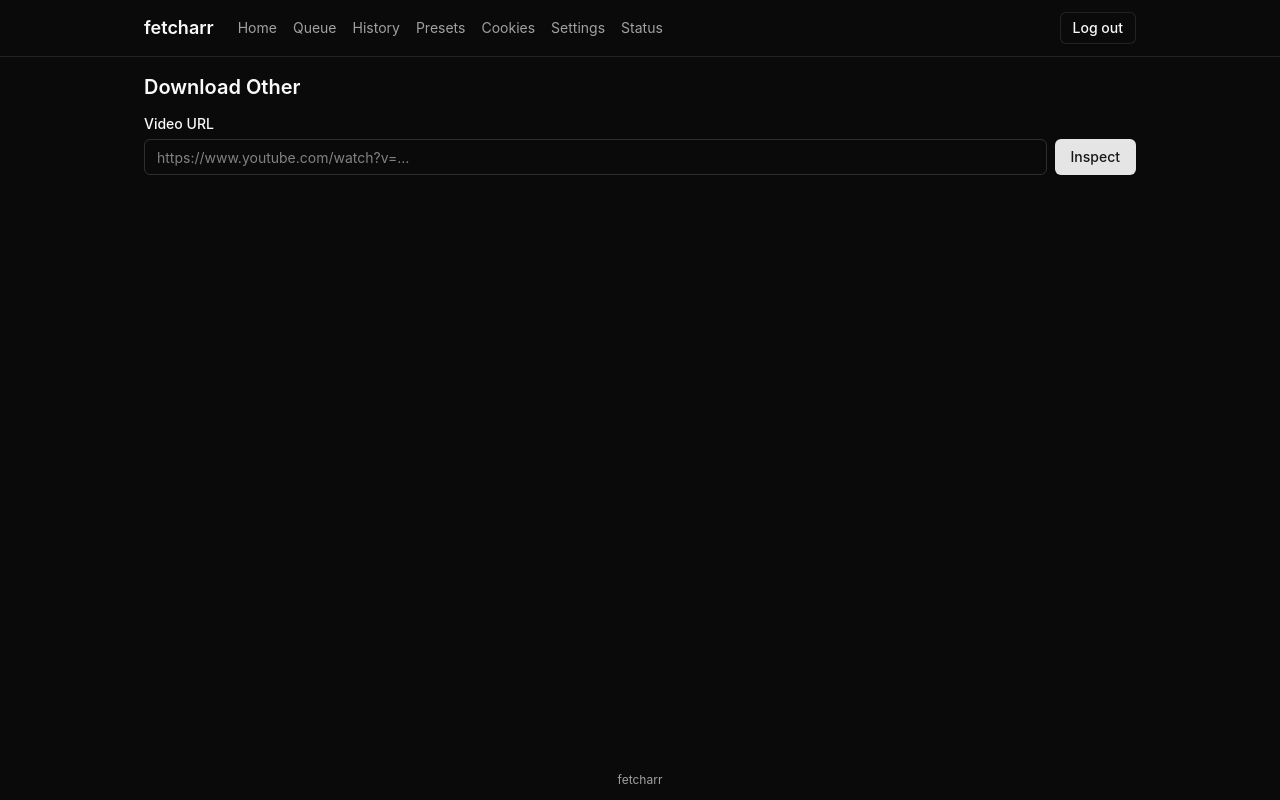
Test: Other wizard › shows a loading state while inspecting
In the field labelled "Video URL": (595, 157) [144,139,1046,175], type "https://www.youtube.com/watch?v=aqz-KE-bpKQ"
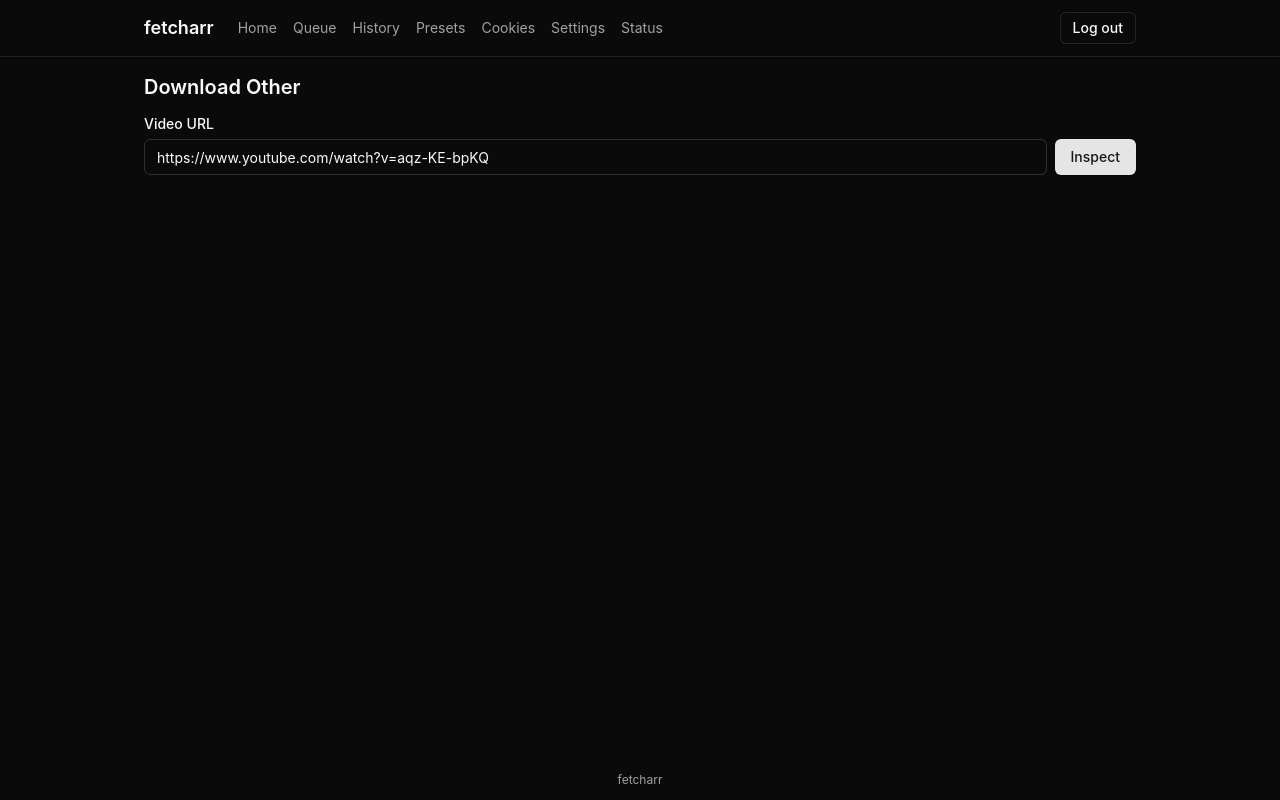
Click the button "Inspect": (1095, 157) [1054,139,1136,175]
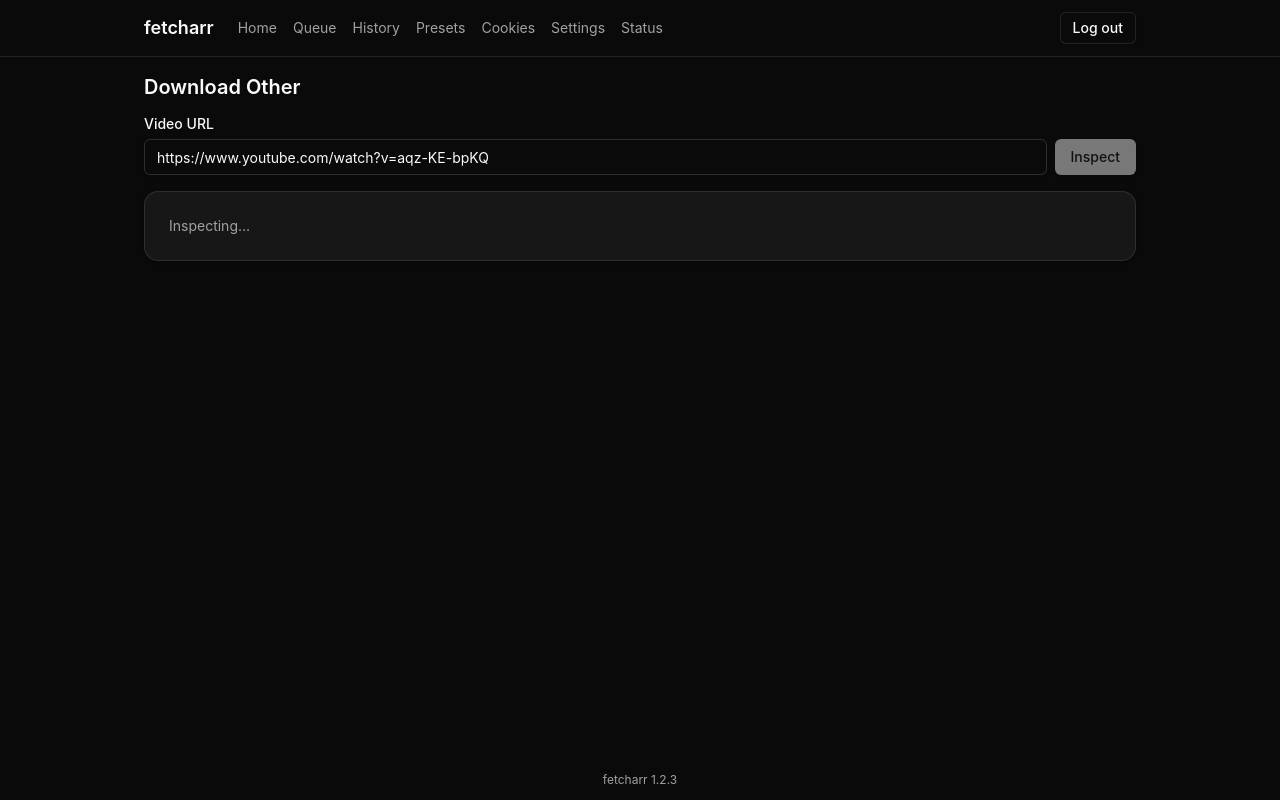
Check: the message reads "Inspecting…", box [169,217,250,234]
Check: the button "Inspect" is disabled, box [1054,139,1136,175]
